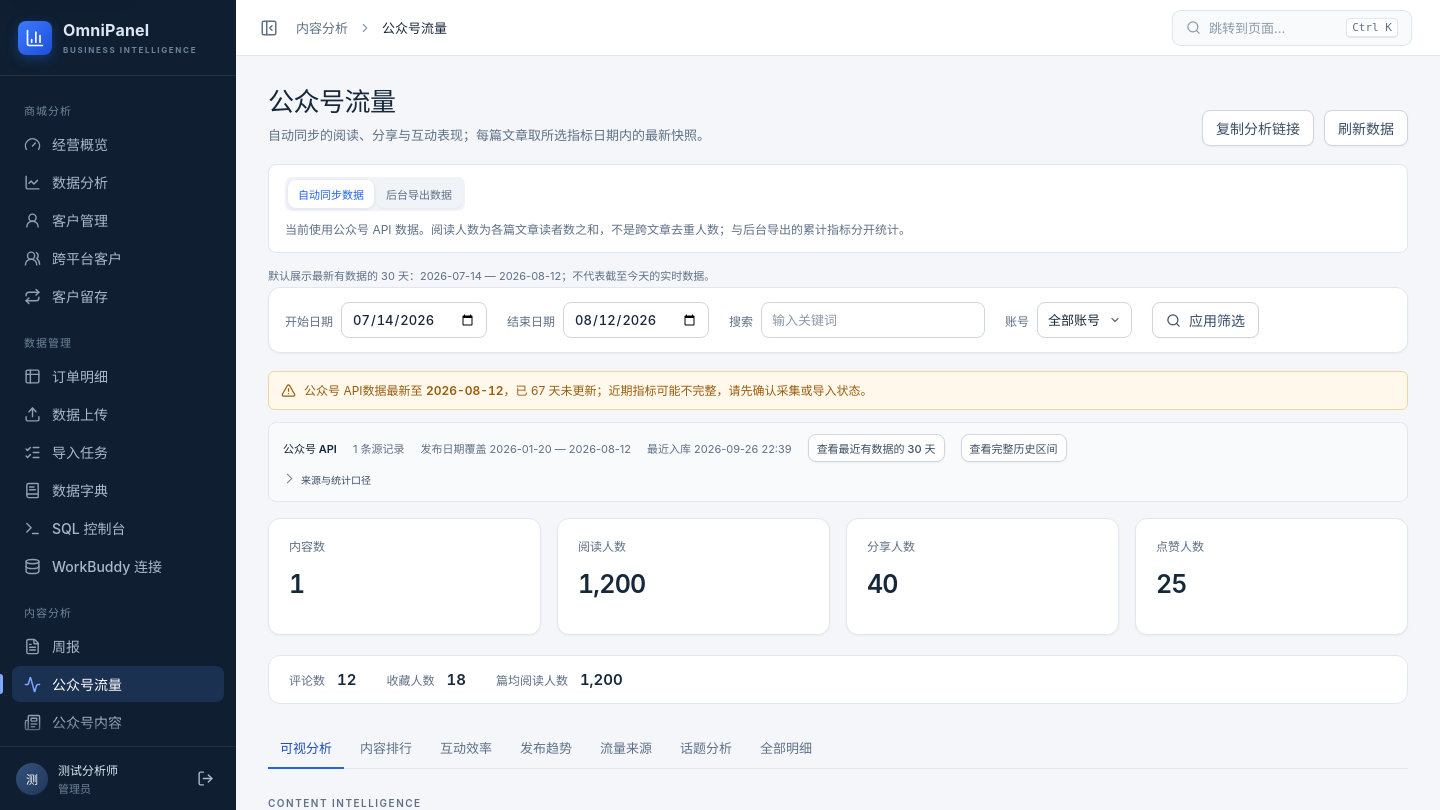
Test case: migrated workspace pages › opens traffic with actual API analytics and keeps export metrics separate
Click the button "后台导出数据". click: (419, 194)
box: x1=376 y1=180 x2=462 y2=208
(page scrolled)
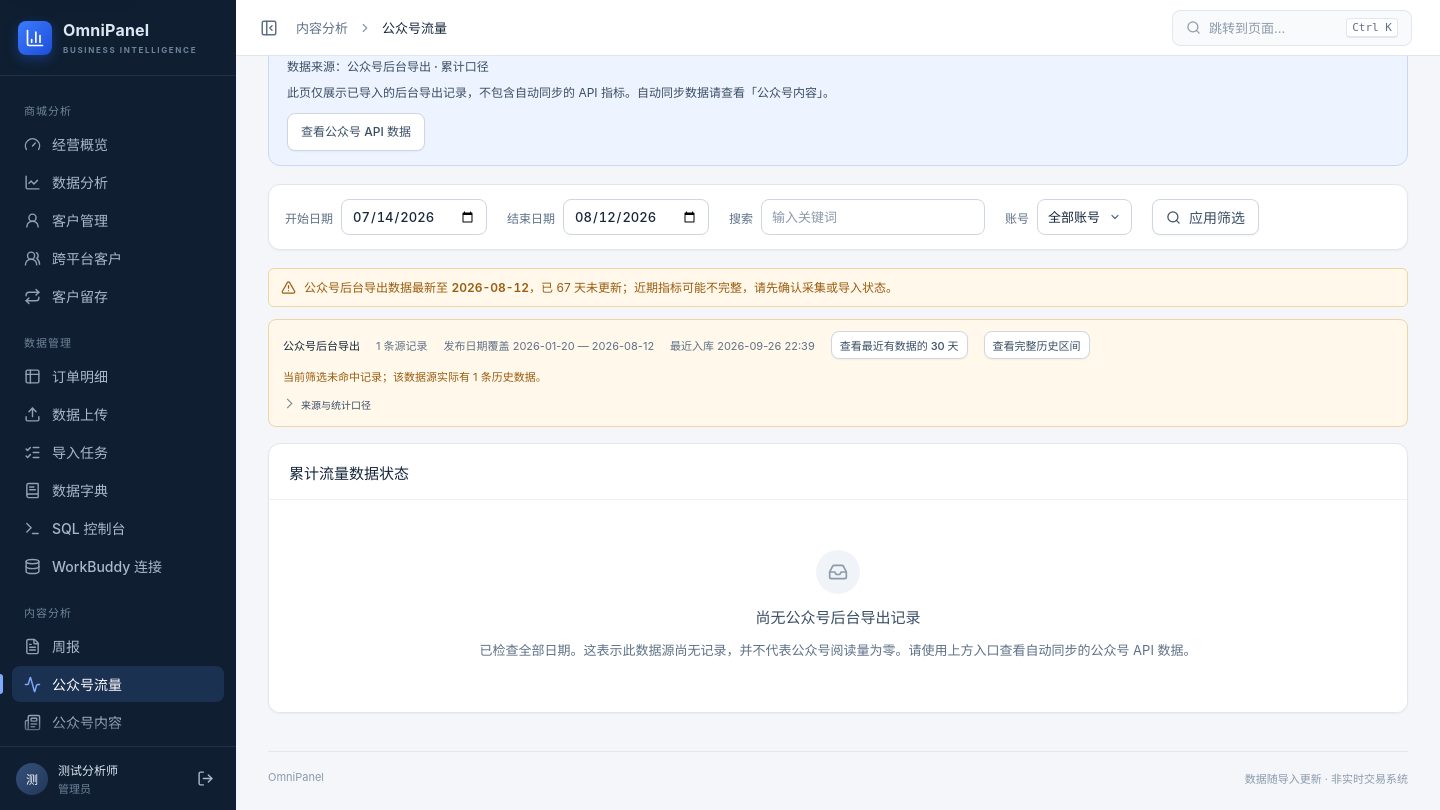
Expected: the text "尚无公众号后台导出记录" is shown, x1=756 y1=606 x2=920 y2=627
